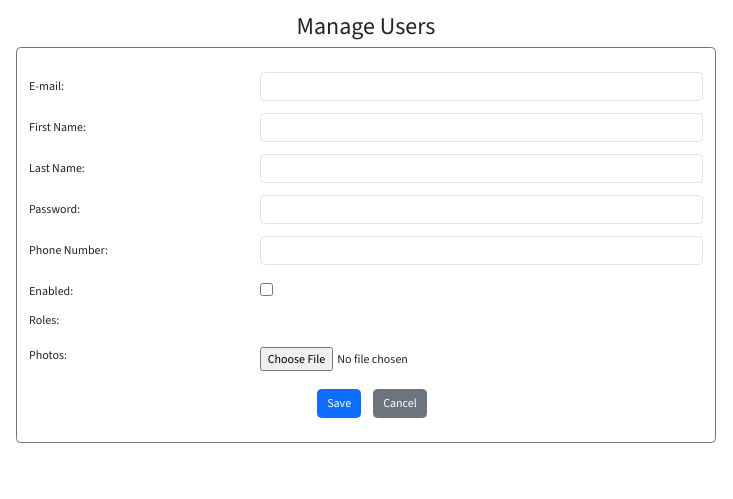
Scenario: AddUser Component › Submit Form with Existed Email or Invalid Email
The width and height of the screenshot is (733, 499).
Type "a124@example.com" into the field labelled "E-mail:".
click(481, 86); type("a124@example.com")  # box [260,72,703,101]
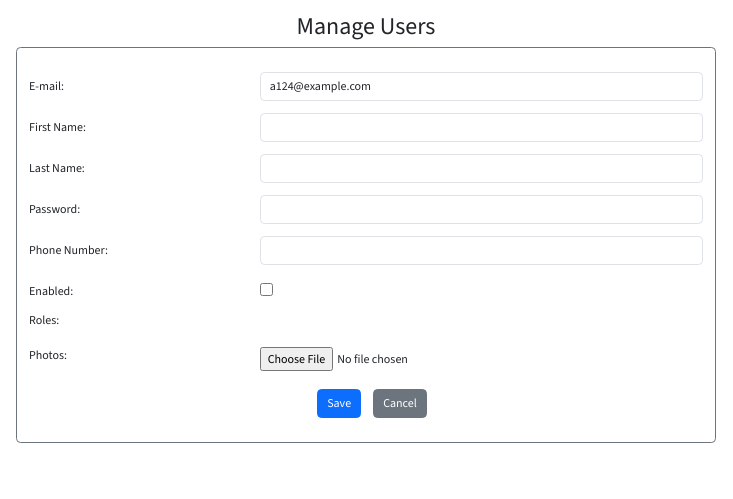
Type "John" into the field labelled "First Name:".
click(481, 127); type("John")  # box [260,113,703,142]
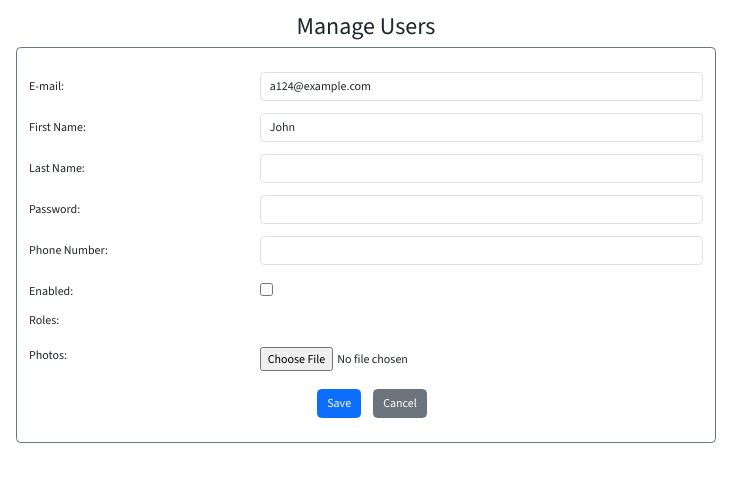
Type "Doe" into the field labelled "Last Name:".
click(481, 168); type("Doe")  # box [260,154,703,183]
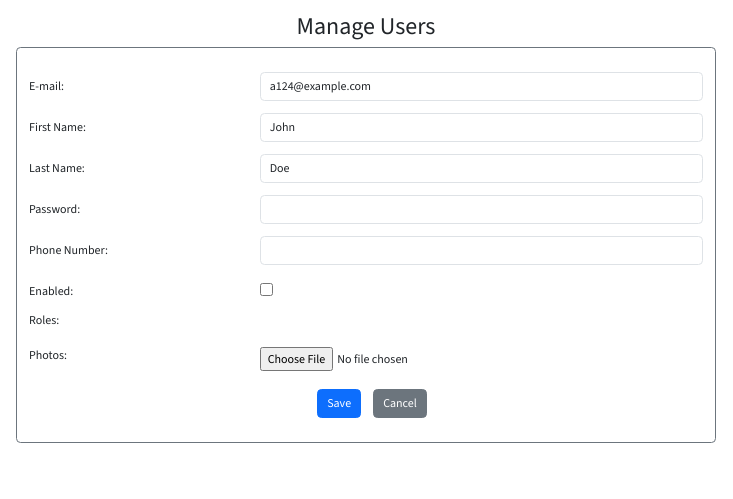
Type "password123" into the password field labelled "Password:".
click(481, 209); type("password123")  # box [260,195,703,224]
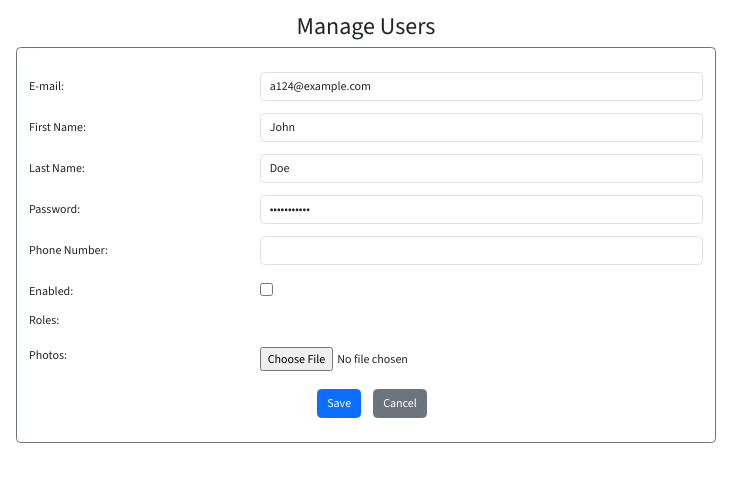
Type "1234567890" into the field labelled "Phone Number:".
click(481, 250); type("1234567890")  # box [260,236,703,265]
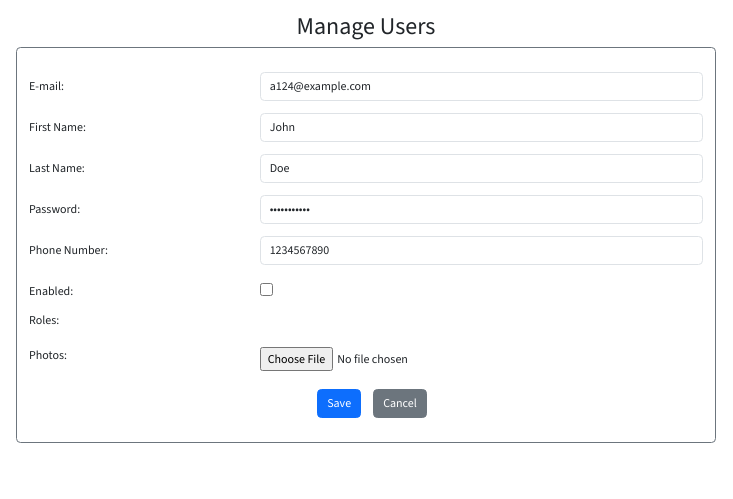
Submit the form from the button "Save", box [317,389,361,418]
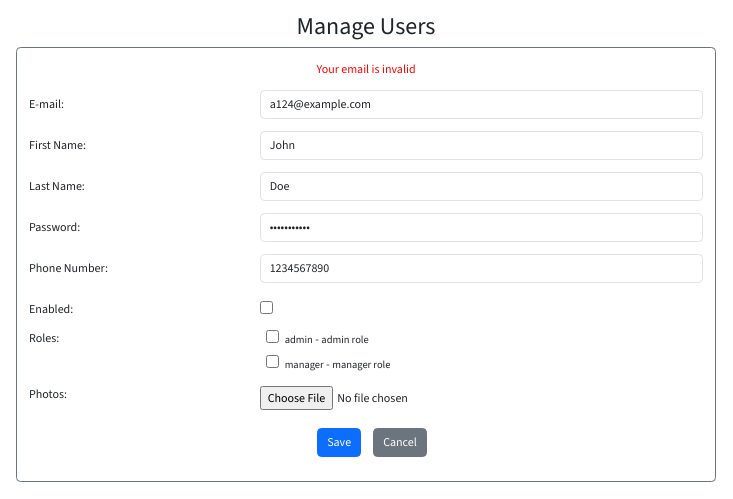
Now the text "Your email is invalid" is shown, box [316,61,416,77]
